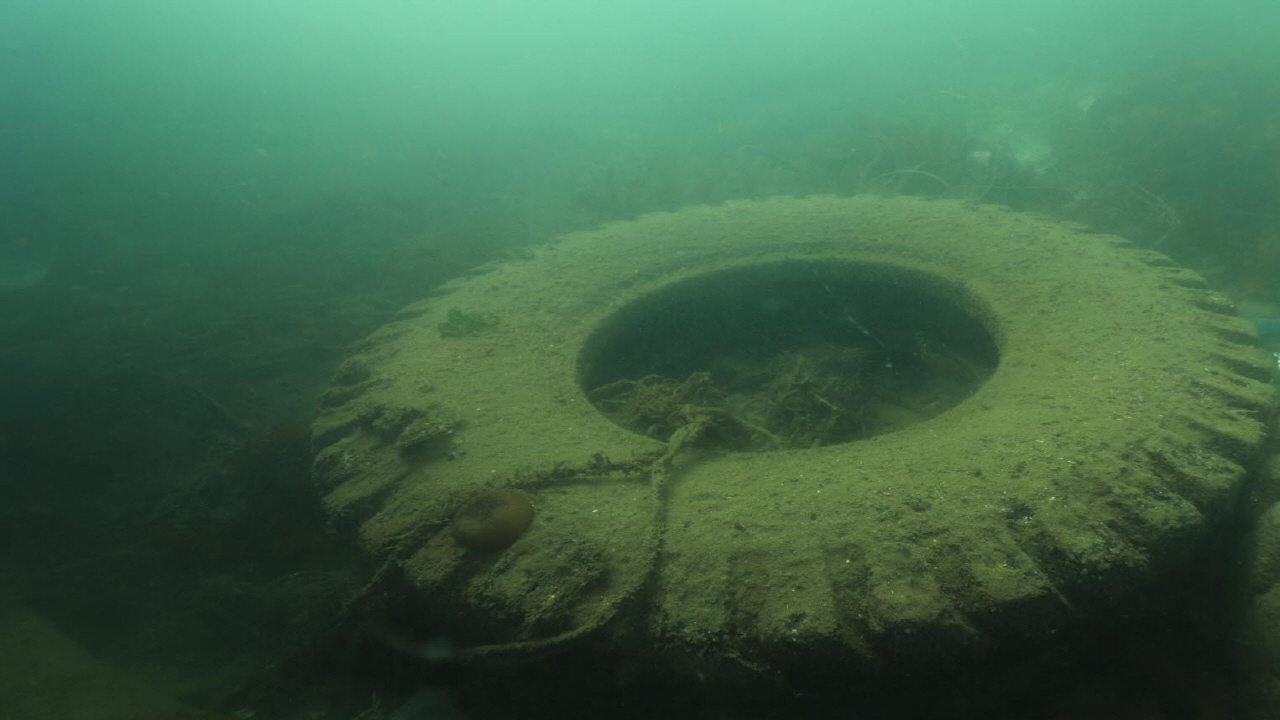bundle of ropes: (326, 429, 691, 665)
tire: (307, 189, 1280, 720)
